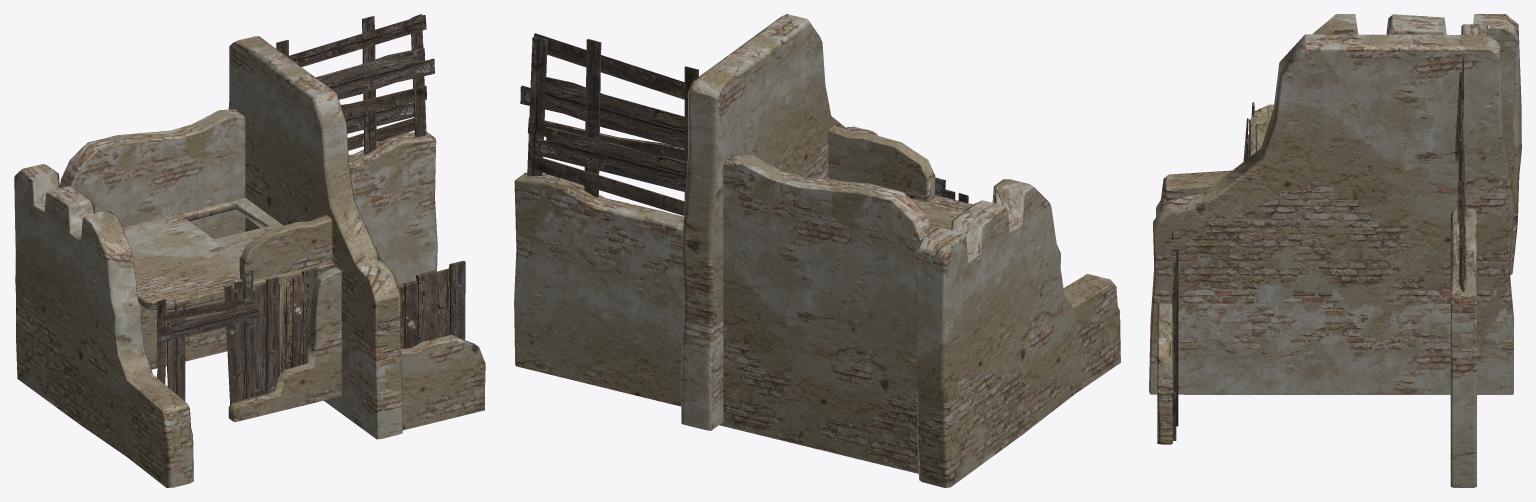
File: houseWall2.fbx
3 renders of one model, left to right at view 1: azimuth 30°, elevation 25°; view 2: azimuth 150°, elevation 25°; view 3: azimuth 270°, elevation 25°, orthographic. The views are drawn at different scales.
Parts seen in each view (by area): view 1: LV_Campagna_CityHouse_House01_SM_SVR; view 2: LV_Campagna_CityHouse_House01_SM_SVR; view 3: LV_Campagna_CityHouse_House01_SM_SVR.
Part boxes in pixels (box(x1,y1,x2,y2)): LV_Campagna_CityHouse_House01_SM_SVR: box(14, 14, 485, 487); LV_Campagna_CityHouse_House01_SM_SVR: box(514, 14, 1120, 487); LV_Campagna_CityHouse_House01_SM_SVR: box(1149, 14, 1521, 487).
Size of the model in its own units: 2.46 by 1.8 by 1.7.
2 materials, 2 textured.
